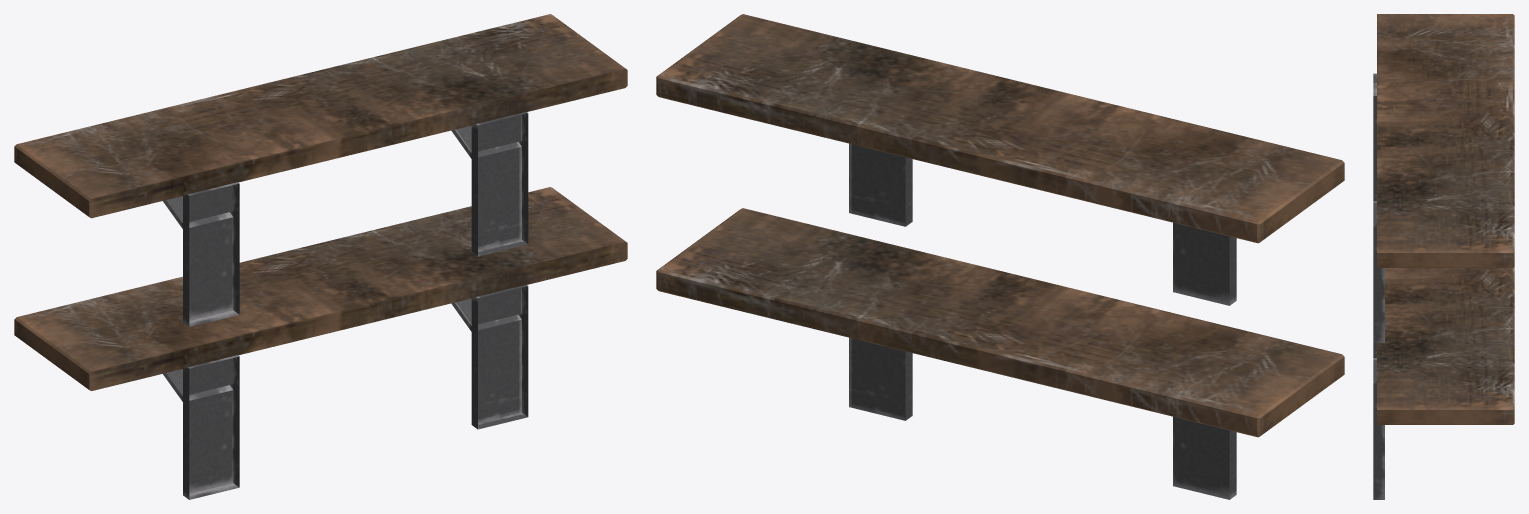
File: SM_Shelves_Bunker.glb
3 renders of one model, left to right at view 1: azimuth 30°, elevation 25°; view 2: azimuth 150°, elevation 25°; view 3: azimuth 270°, elevation 25°, orthographic. The views are drawn at different scales.
Visible parts, largest first — view 1: SM_BunkerShelves; view 2: SM_BunkerShelves; view 3: SM_BunkerShelves.
Boxes of the visible parts, x1,y1,x2,y2 form: SM_BunkerShelves: [14, 14, 627, 499]; SM_BunkerShelves: [656, 14, 1344, 499]; SM_BunkerShelves: [1373, 14, 1514, 499].
Size of the model in its own units: 1.63 by 0.9338 by 0.4073.
1 material, 1 textured.
